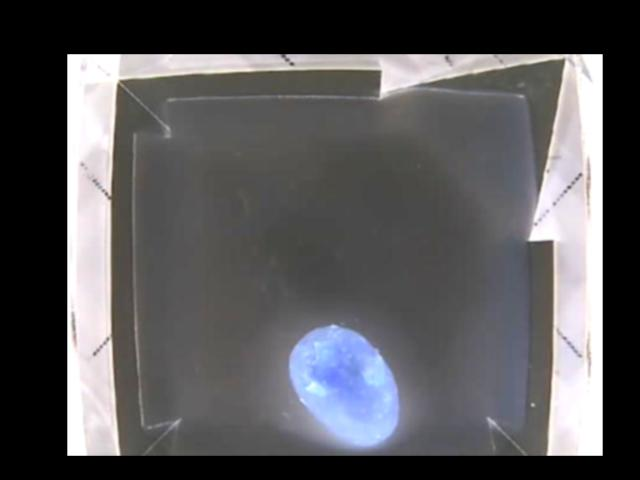Potato: (288, 324, 400, 446)
